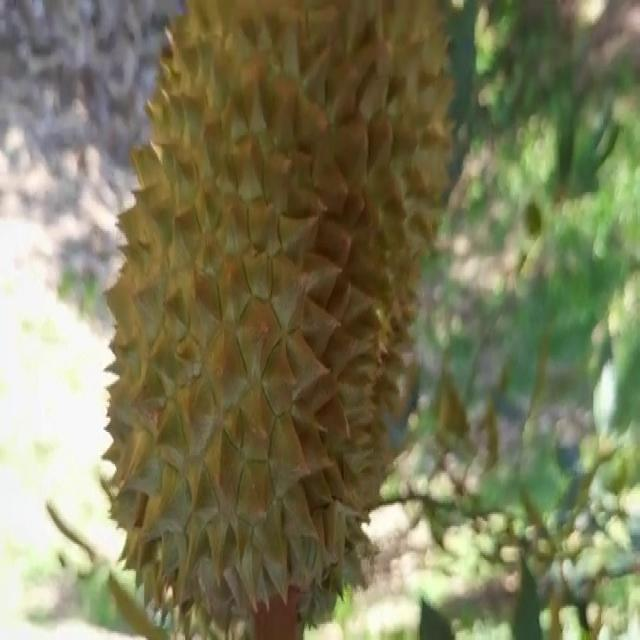durian: (97, 2, 460, 636)
